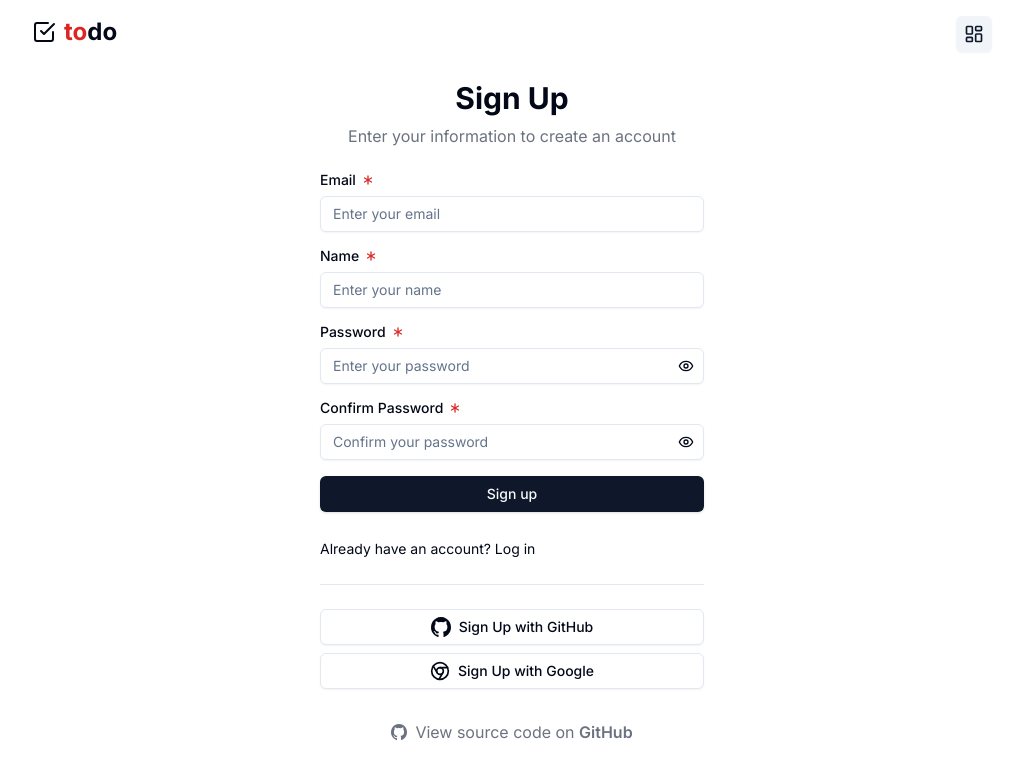
Test case: Signup › should show password when clicking on the icon
The image size is (1024, 768).
Type "123456" into the password field named "password".
click(512, 366); type("123456")  # box top-left (320, 348), bottom-right (704, 384)
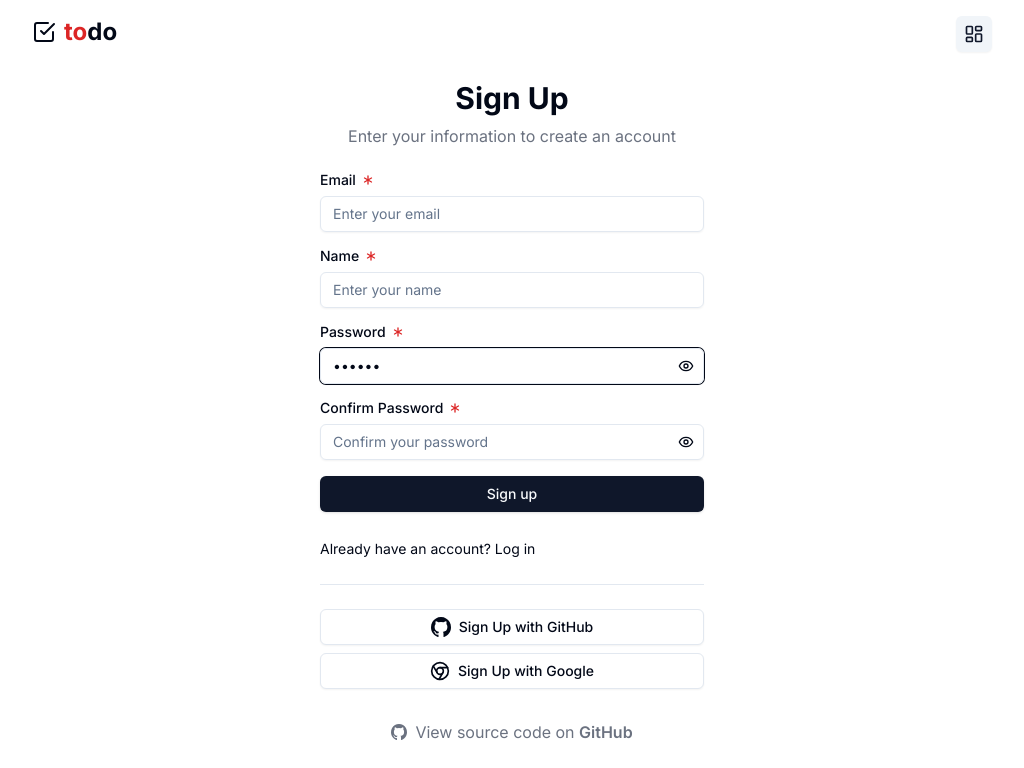
Click the 1st button with test id "toggle-password-visibility".
click(686, 366)  # box top-left (678, 358), bottom-right (694, 374)
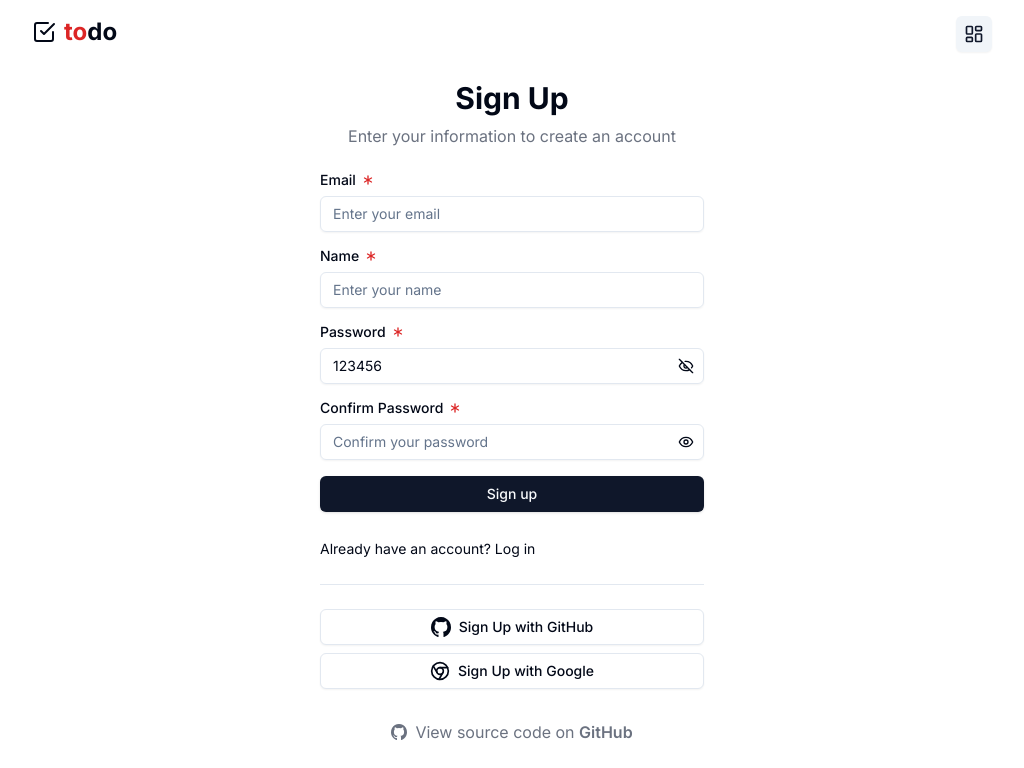
Expected: the field named "password" shows its text, top-left (320, 348), bottom-right (704, 384)
